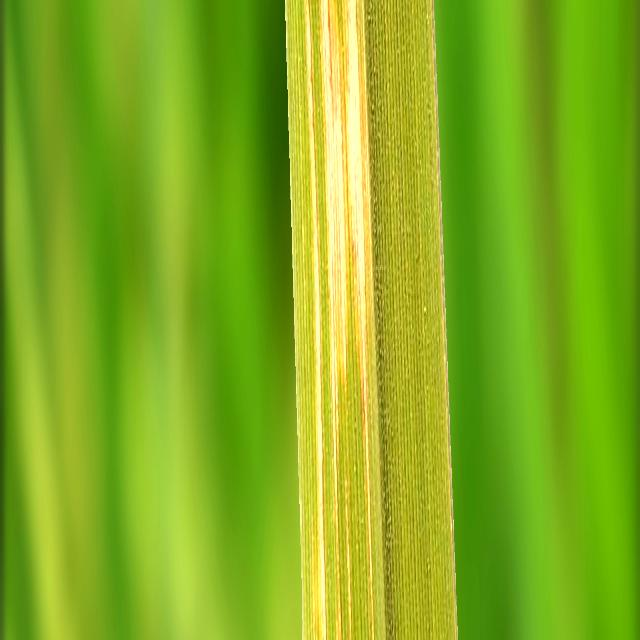BLS: (345, 0, 373, 612), (321, 0, 347, 640), (305, 0, 326, 640)
